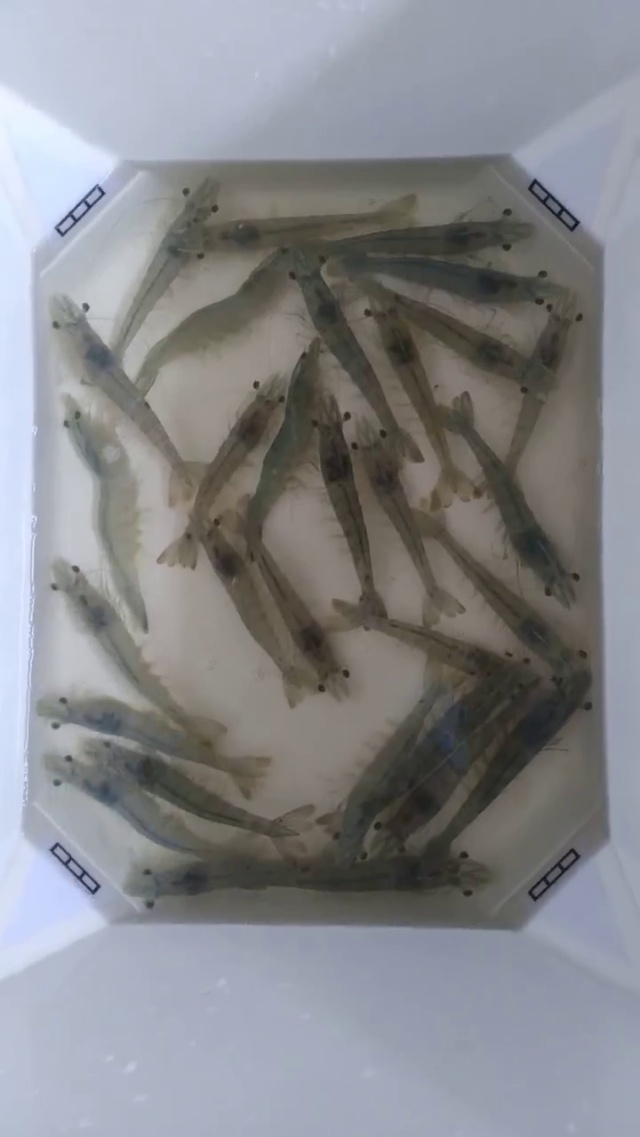shrimp: (547, 161, 639, 487), (159, 397, 267, 583), (468, 291, 573, 476), (41, 299, 135, 501), (406, 763, 522, 925), (578, 497, 639, 797), (36, 478, 146, 636), (120, 177, 217, 348), (331, 348, 423, 514), (443, 392, 531, 563), (223, 569, 331, 705), (36, 205, 141, 342), (315, 734, 406, 890), (85, 801, 194, 922), (36, 696, 143, 815), (211, 192, 318, 300), (457, 155, 549, 277), (502, 507, 574, 655), (205, 372, 289, 481), (0, 206, 33, 466), (0, 601, 31, 842), (321, 595, 389, 696)
